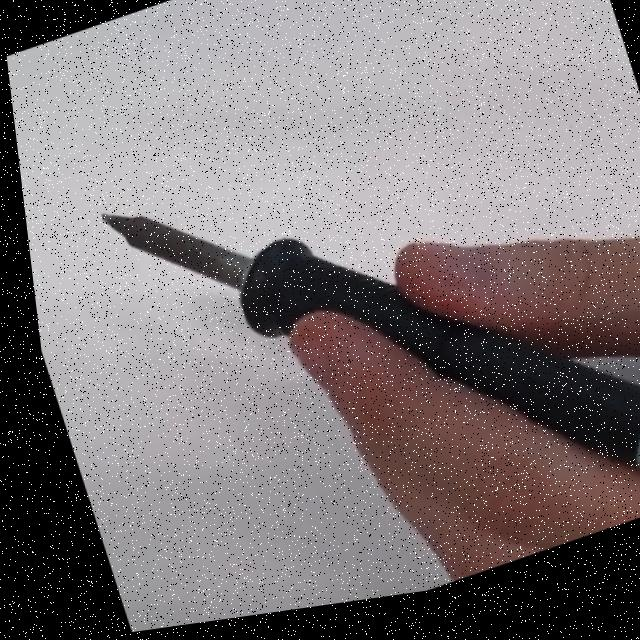soldering_iron: (90, 33, 640, 629)
